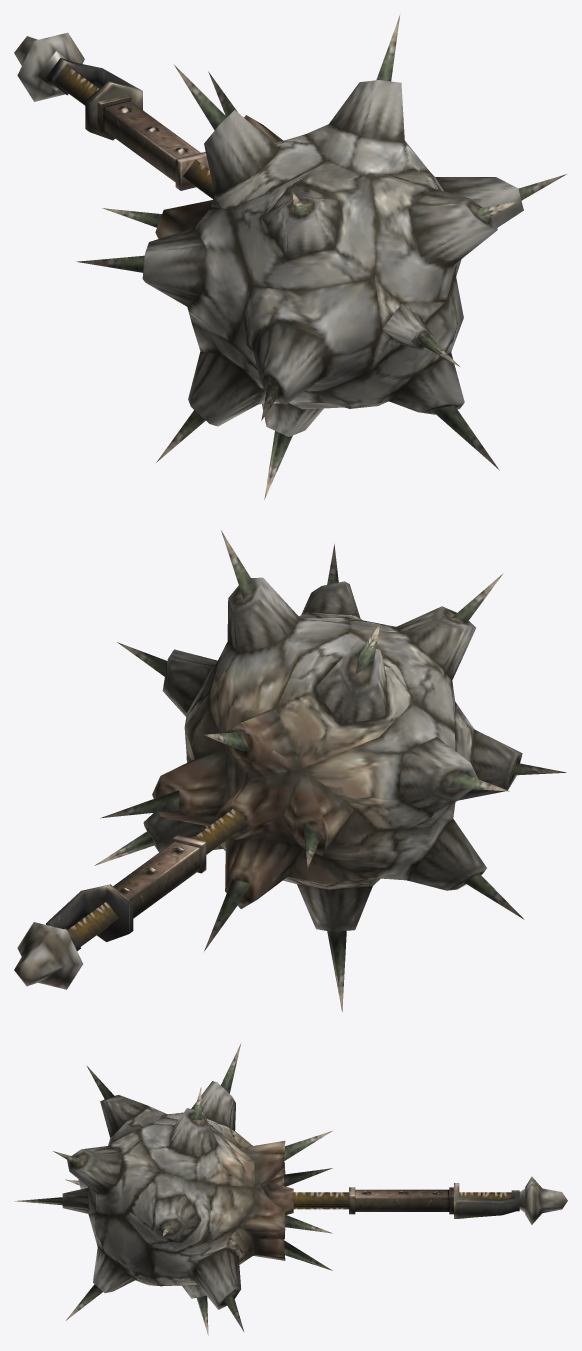
Rendered from we037_amh.OBJ.
The picture shows the model from 3 angles, top to bottom: view 1: azimuth 30°, elevation 25°; view 2: azimuth 150°, elevation 25°; view 3: azimuth 270°, elevation 25°; orthographic projection. The views are drawn at different scales.
Parts seen in each view (by area): view 1: mesh_0; view 2: mesh_0; view 3: mesh_0.
Part boxes in pixels (x1,y1,x2,y2): mesh_0: (14,14,566,499); mesh_0: (14,530,566,1011); mesh_0: (15,1044,567,1335).
Size of the model in its own units: 143 by 140 by 243.
Materials: 1 (1 with a texture image).
